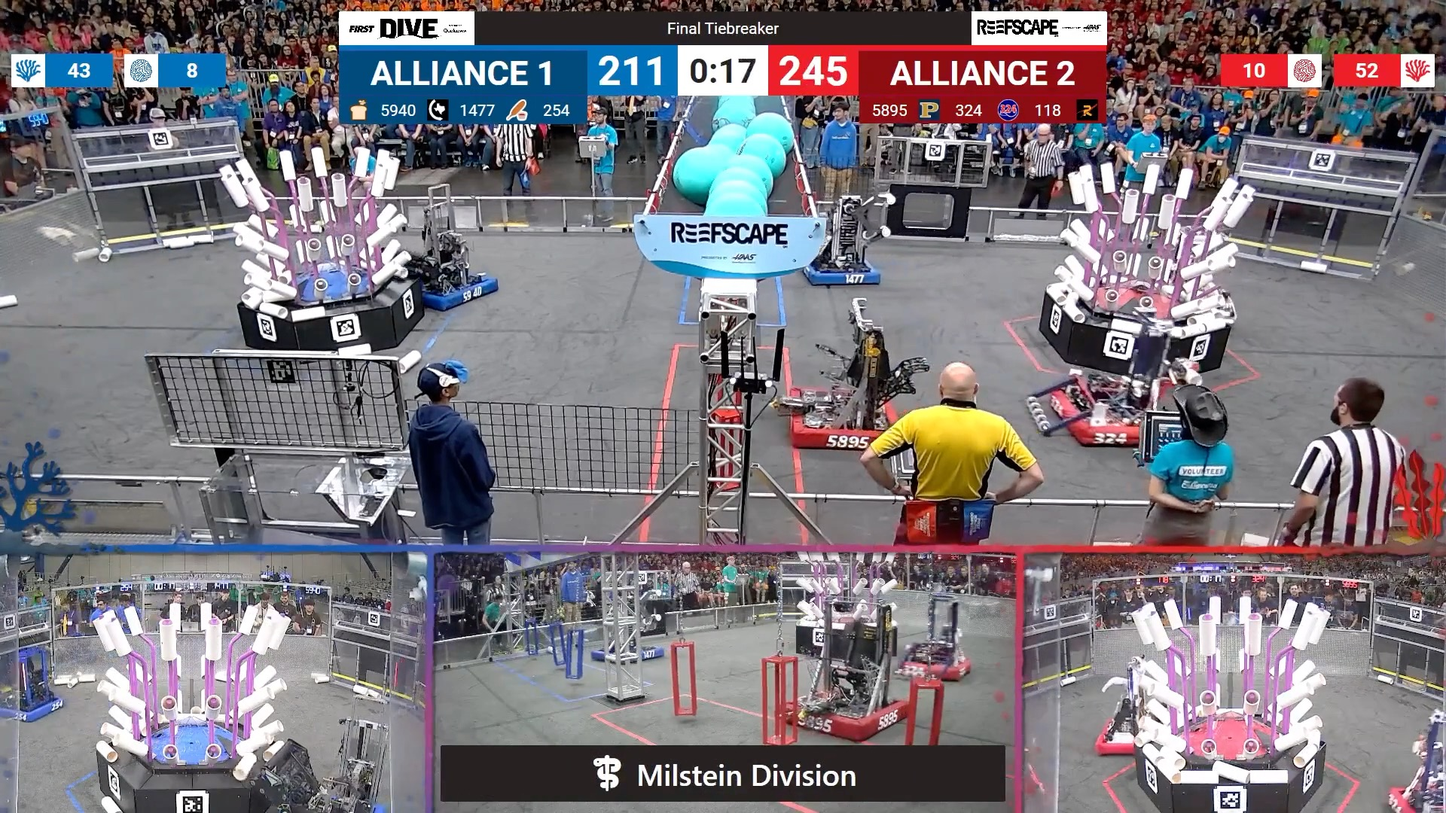bumpers: (1040, 387, 1191, 457), (780, 395, 896, 461), (395, 263, 508, 313), (777, 702, 909, 738), (794, 251, 887, 290), (1091, 719, 1166, 762), (0, 693, 72, 727), (906, 648, 976, 681), (591, 646, 674, 667), (1390, 784, 1445, 813)
